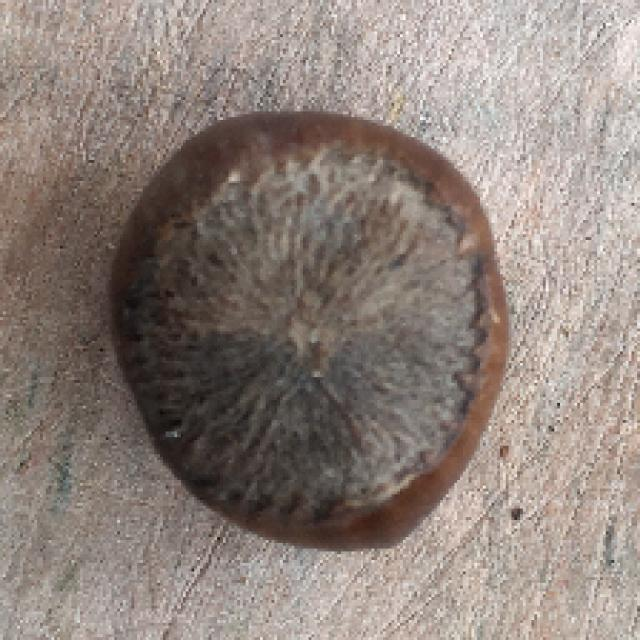damagedHazelnut: (100, 100, 510, 559)
